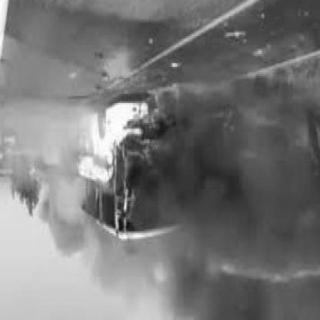Fire: (106, 86, 174, 220)
Smoke: (167, 99, 315, 319)
